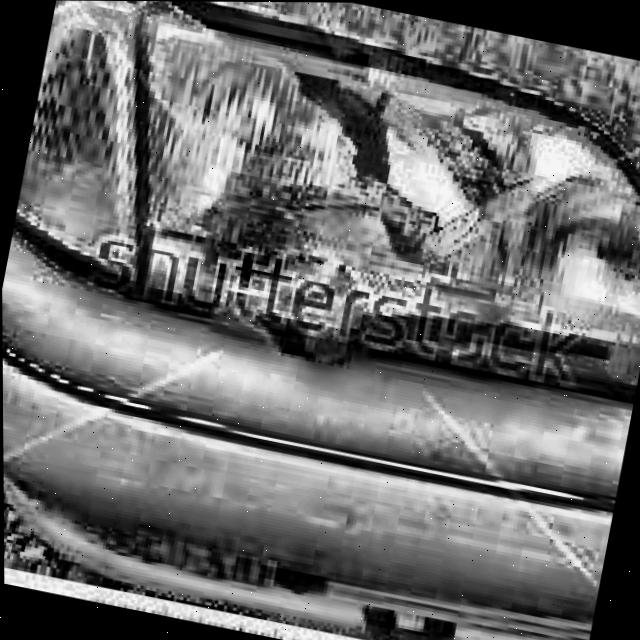head_lamp: (93, 1, 640, 417)
